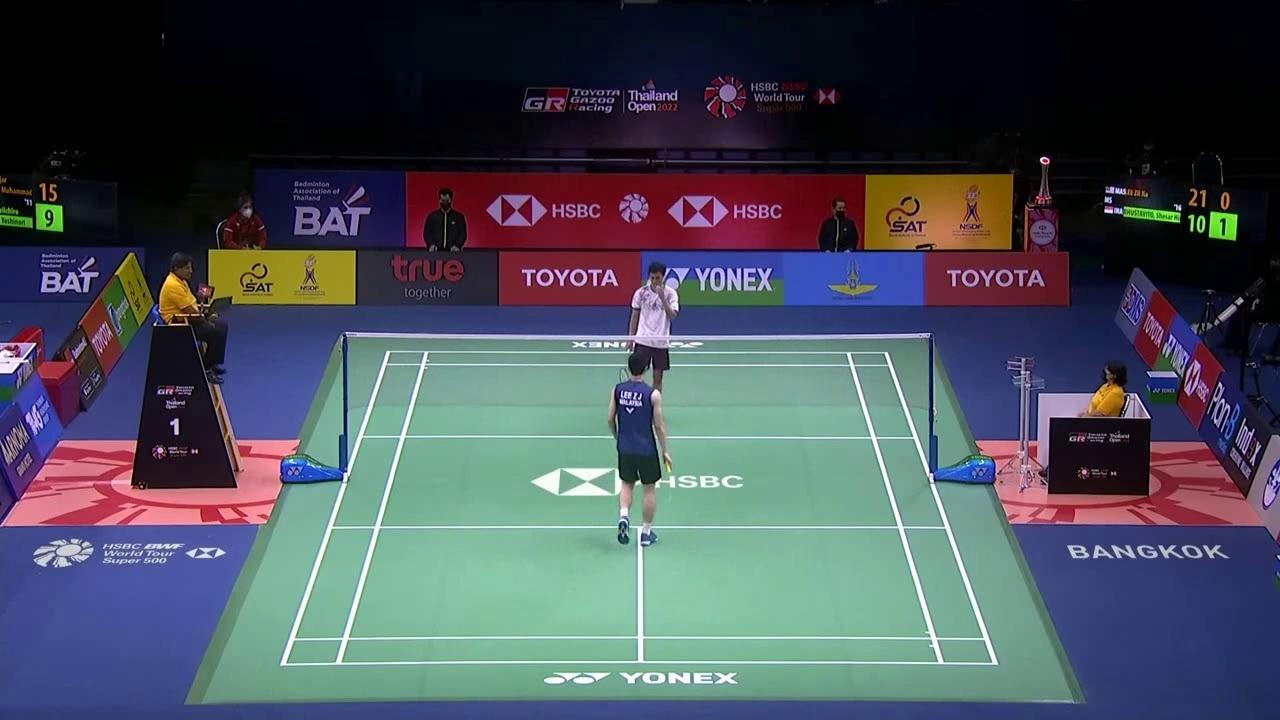racket: (648, 415, 671, 475), (620, 340, 634, 385)
